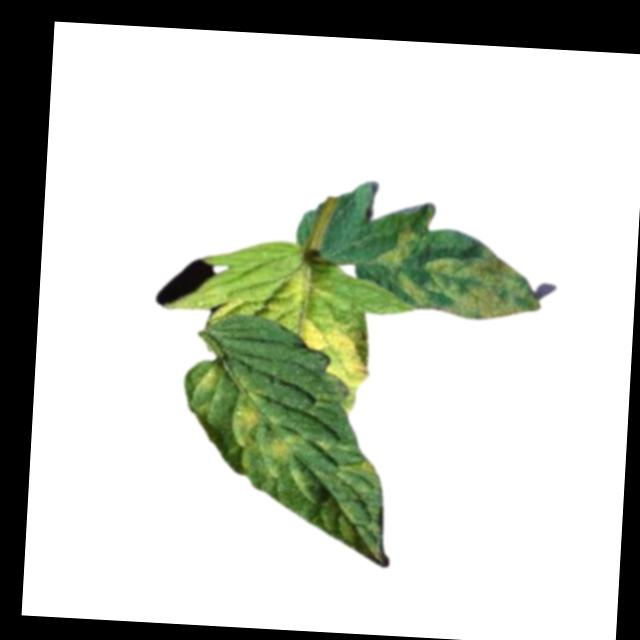Leaf_Mold: (377, 201, 546, 325), (295, 310, 374, 418), (224, 392, 303, 475), (187, 361, 227, 420)
